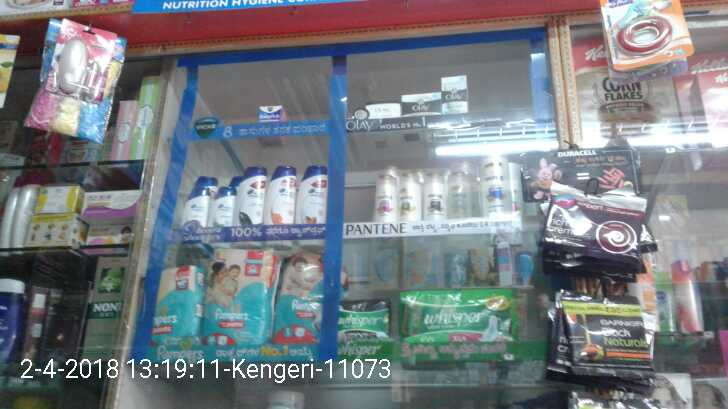vicks: (260, 105, 286, 120)
